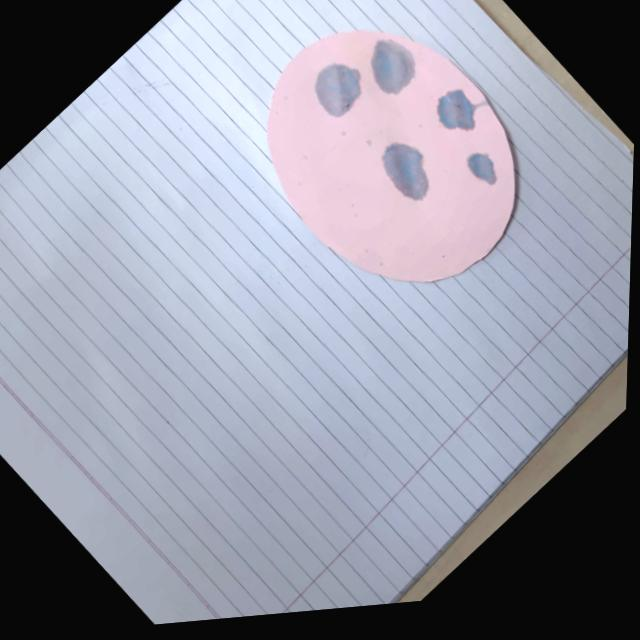BlueColor: (382, 143, 428, 199), (315, 63, 360, 116), (371, 40, 415, 92), (437, 90, 476, 129), (467, 154, 497, 184)
